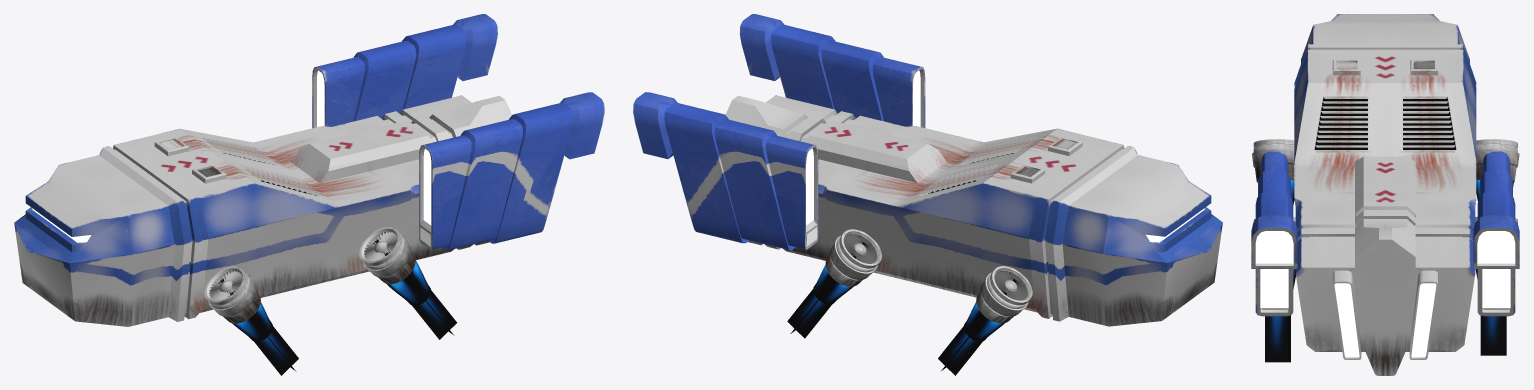
The model's file is SpaceShip.gltf.
The picture shows the model from 3 angles, left to right: view 1: azimuth 30°, elevation 25°; view 2: azimuth 150°, elevation 25°; view 3: azimuth 270°, elevation 25°; orthographic projection. The views are drawn at different scales.
Visible parts, largest first — view 1: Main_Body, Thrusters, Turbine_F_Right, Turbine_B_Right, JetFlames, JetFlames.002; view 2: Main_Body, Thrusters, Turbine_F_Left, Turbine_B_Left, JetFlames.001, JetFlames.003; view 3: Main_Body, Thrusters, JetFlames, JetFlames.003, Turbine_F_Left, Turbine_F_Right.
Boxes of the visible parts, bbox=[...] form: Main_Body: bbox=[14, 95, 511, 326]; Thrusters: bbox=[312, 14, 604, 250]; Turbine_F_Right: bbox=[204, 266, 260, 323]; Turbine_B_Right: bbox=[359, 227, 415, 284]; JetFlames: bbox=[386, 260, 456, 339]; JetFlames.002: bbox=[232, 302, 298, 375]; Main_Body: bbox=[725, 95, 1222, 326]; Thrusters: bbox=[633, 14, 925, 250]; Turbine_F_Left: bbox=[976, 266, 1032, 323]; Turbine_B_Left: bbox=[825, 229, 881, 286]; JetFlames.001: bbox=[938, 302, 1004, 375]; JetFlames.003: bbox=[787, 265, 853, 338]; Main_Body: bbox=[1294, 14, 1476, 375]; Thrusters: bbox=[1251, 151, 1519, 316]; JetFlames: bbox=[1265, 269, 1295, 362]; JetFlames.003: bbox=[1475, 269, 1506, 355]; Turbine_F_Left: bbox=[1476, 139, 1519, 182]; Turbine_F_Right: bbox=[1252, 139, 1294, 182].
Size of the model in its own units: 7.25 by 2.79 by 3.14.
Materials: 7 (3 with a texture image).
